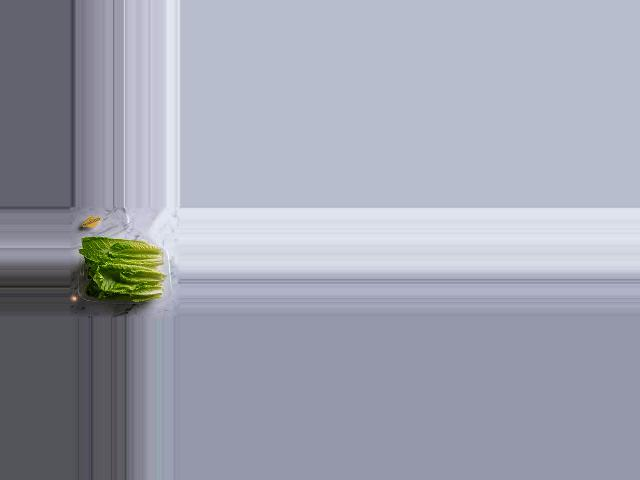lettuce: (78, 233, 165, 304)
